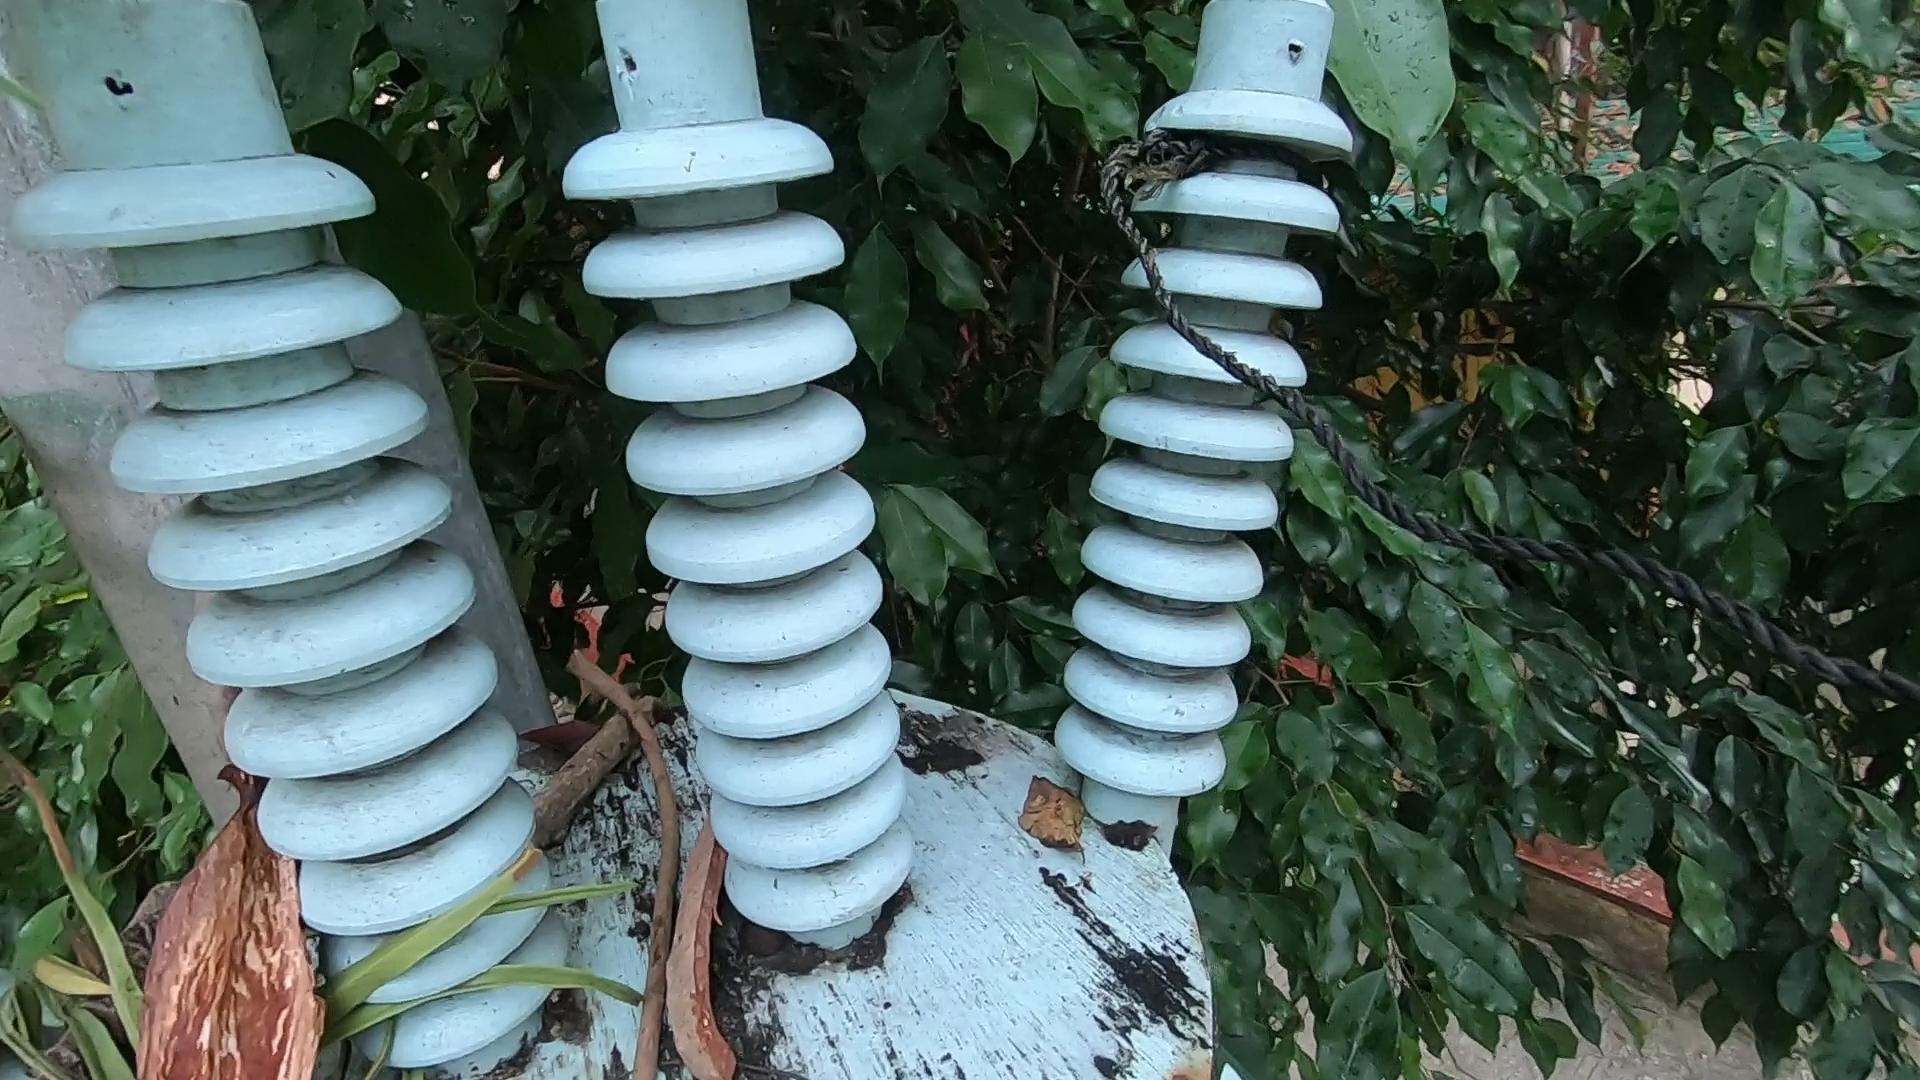branch with leaves: (83, 748, 448, 1080)
leaf: (985, 736, 1137, 855)
mahogany fruit: (120, 765, 372, 1080), (616, 778, 775, 1080)
tree branch: (558, 603, 674, 1080)
